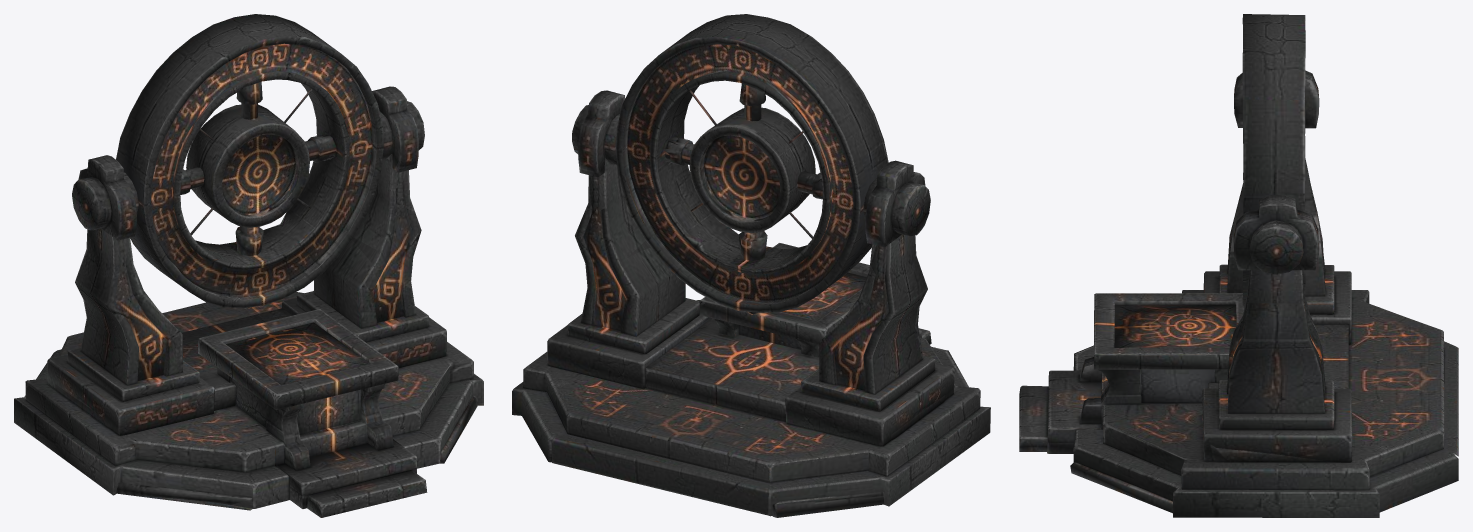
File: altar_chronicle.glb
3 renders of one model, left to right at view 1: azimuth 30°, elevation 25°; view 2: azimuth 150°, elevation 25°; view 3: azimuth 270°, elevation 25°, orthographic. The views are drawn at different scales.
Parts seen in each view (by area): view 1: altar_chronicle; view 2: altar_chronicle; view 3: altar_chronicle.
Part boxes in pixels (<box>): altar_chronicle: <box>14,14,483,517</box>; altar_chronicle: <box>512,14,990,517</box>; altar_chronicle: <box>1019,14,1458,517</box>.
Bounding box in the file's own units: 1 × 1 × 1.
1 material, 1 textured.
